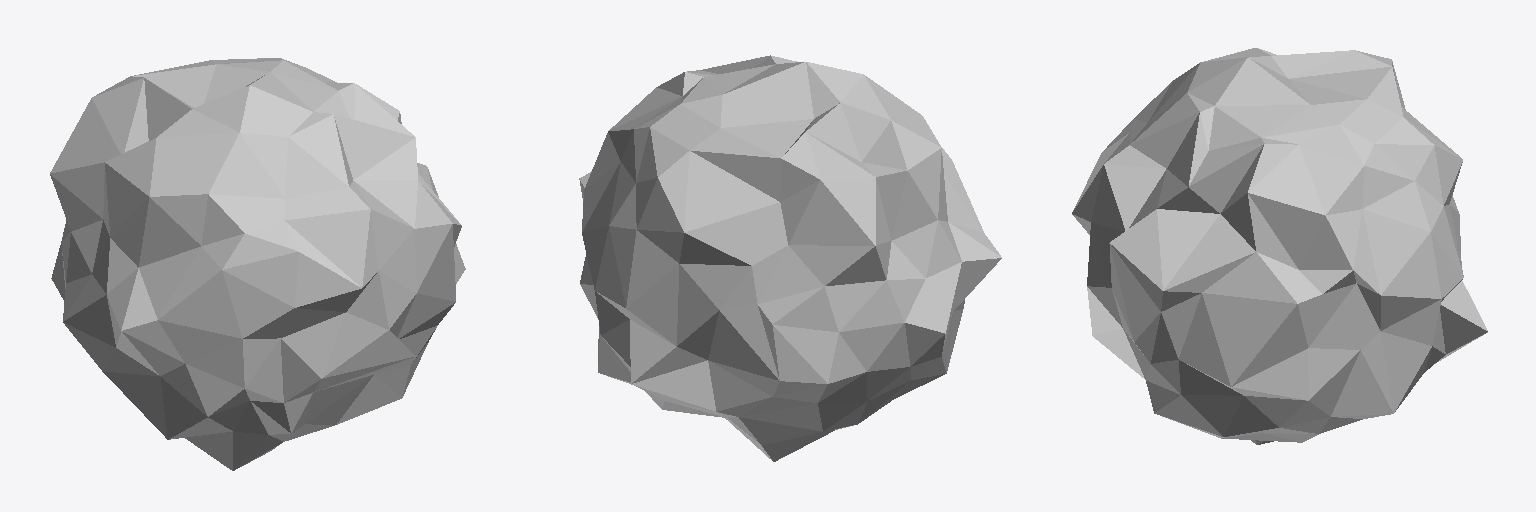
Rendered from fire_000034.obj.
3 views of the same model, side by side, from view 1: azimuth 30°, elevation 25°; view 2: azimuth 150°, elevation 25°; view 3: azimuth 270°, elevation 25° (orthographic).
Parts seen in each view (by area): view 1: Icosphere; view 2: Icosphere; view 3: Icosphere.
Part boxes in pixels (bbox=[...]): Icosphere: bbox=[50, 58, 465, 470]; Icosphere: bbox=[579, 55, 1001, 461]; Icosphere: bbox=[1072, 48, 1487, 444].
Bounding box in the file's own units: 1.2 × 1.16 × 1.17.